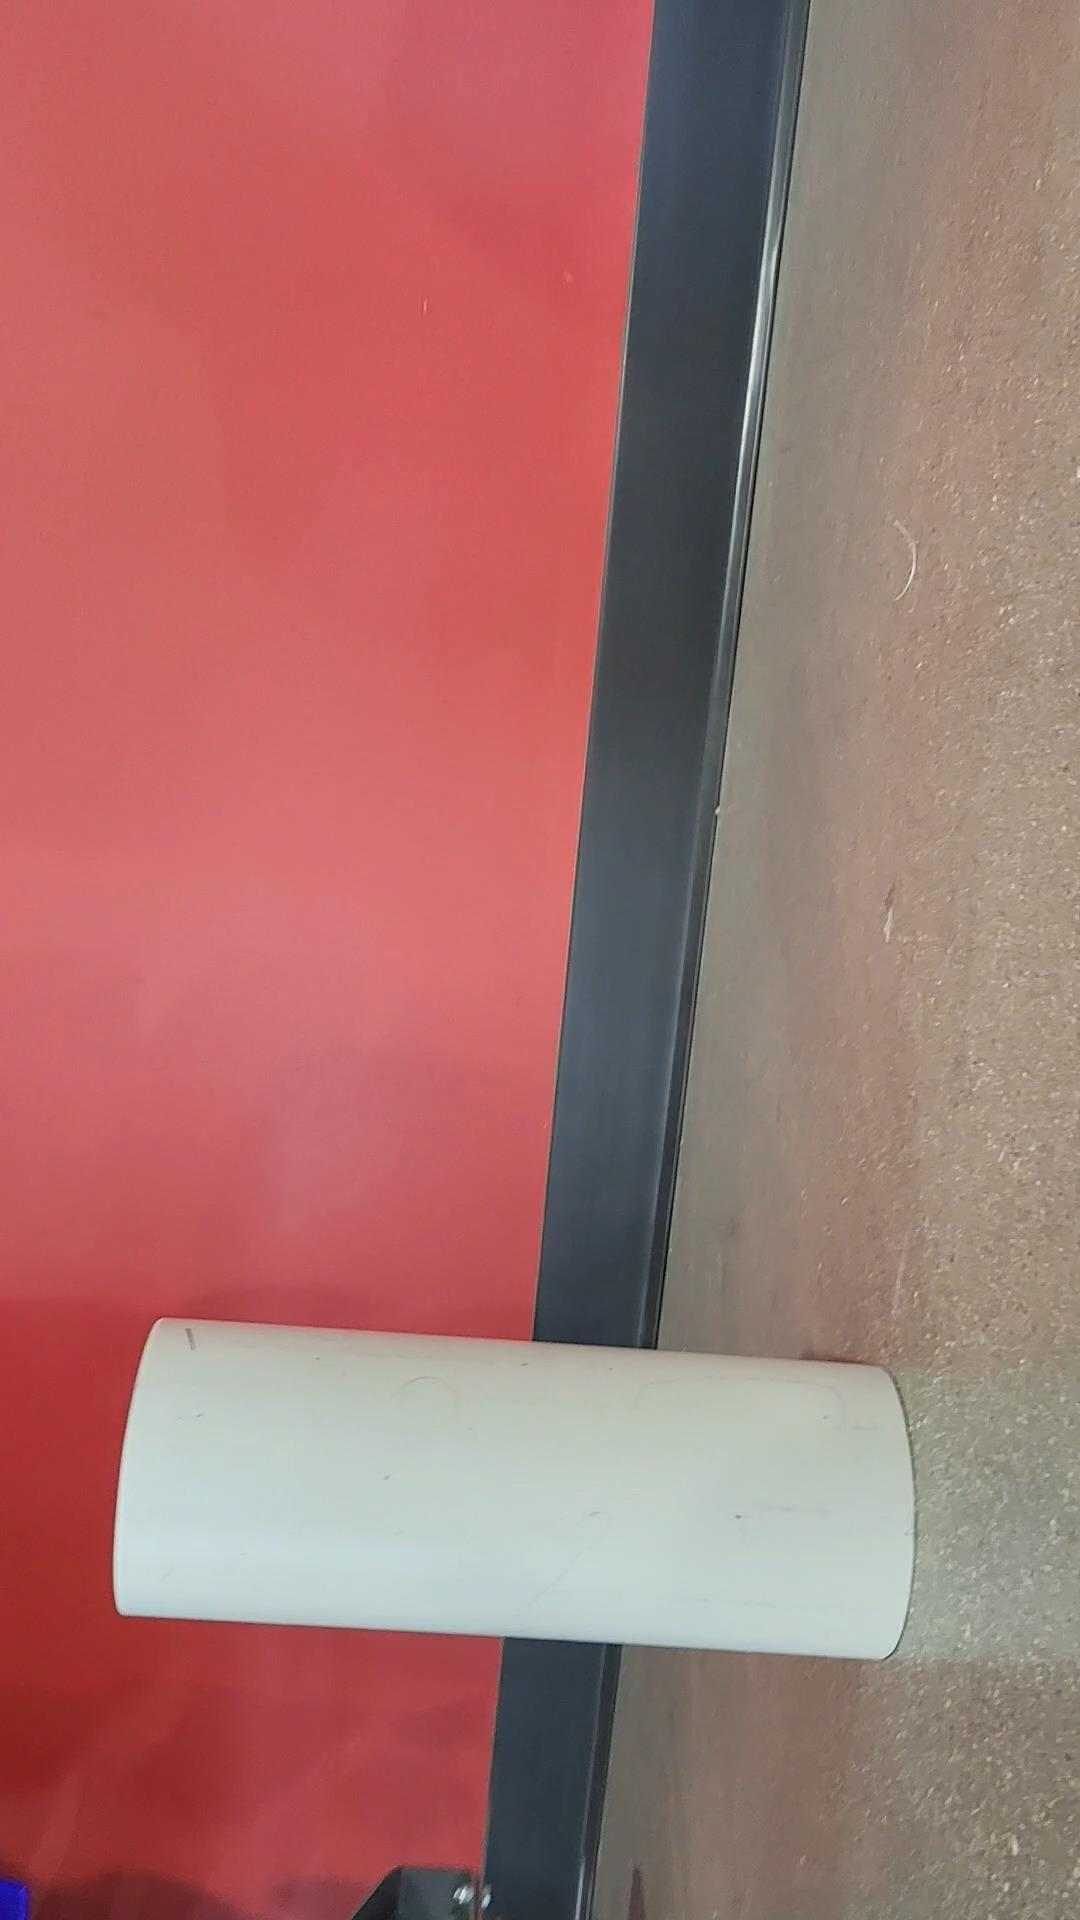coral: (113, 1311, 923, 1667)
